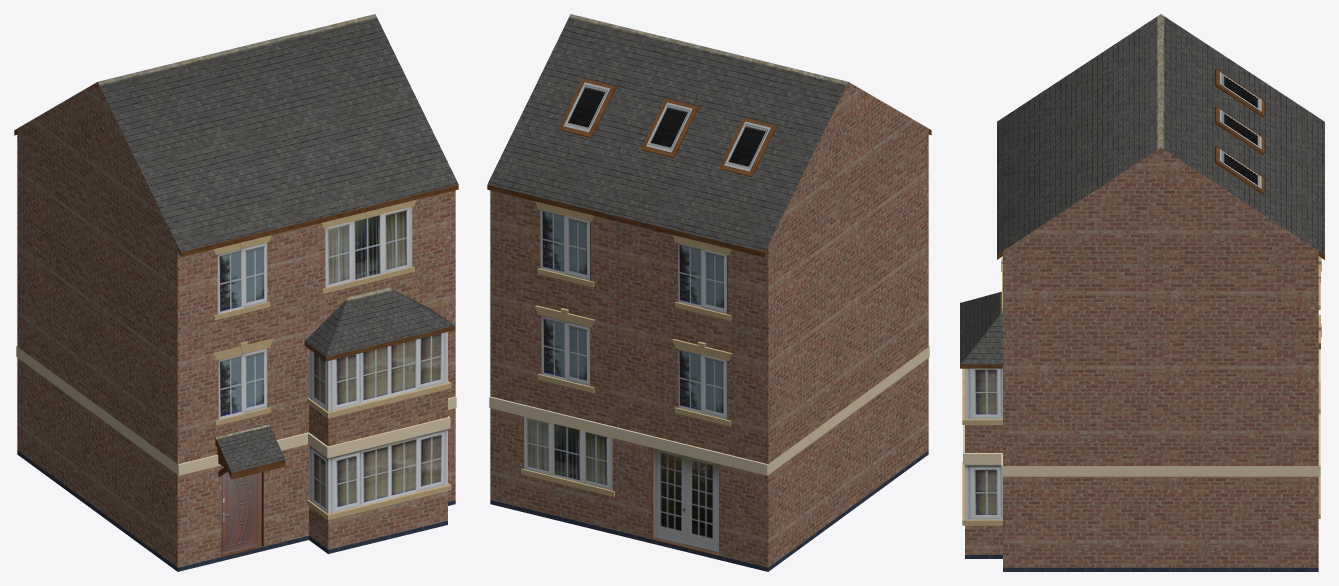
The model's file is modernterrace3story1b.FBX.
The picture shows the model from 3 angles, left to right: view 1: azimuth 30°, elevation 25°; view 2: azimuth 150°, elevation 25°; view 3: azimuth 270°, elevation 25°; orthographic projection.
Visible parts, largest first — view 1: Box001; view 2: Box001; view 3: Box001.
Part boxes in pixels (bbox=[...]): Box001: bbox=[14, 14, 458, 571]; Box001: bbox=[487, 14, 931, 571]; Box001: bbox=[960, 14, 1324, 571].
Size of the model in its own units: 800 by 1188 by 925.
